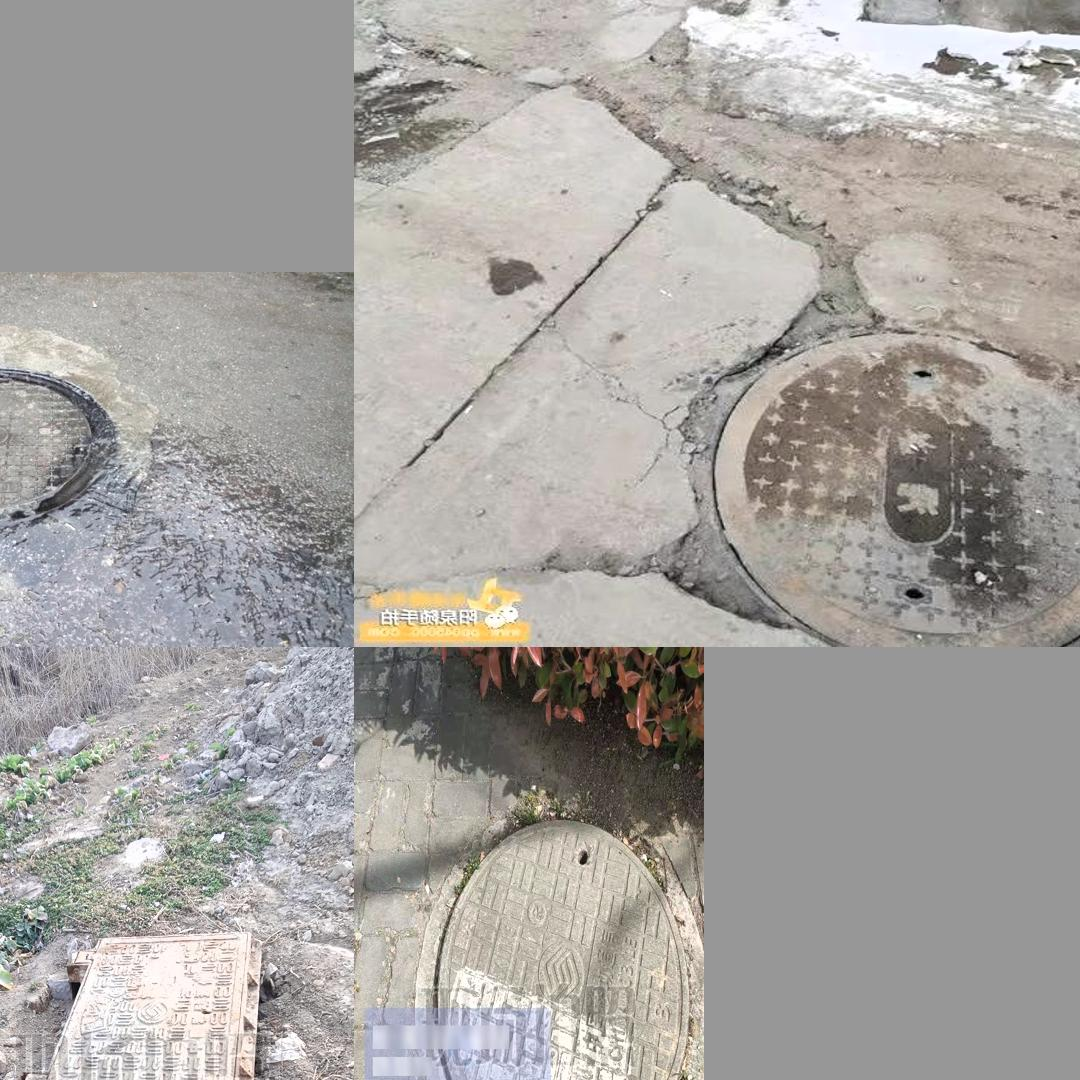circle: (577, 304, 1080, 639), (429, 800, 697, 1080), (11, 925, 270, 1080), (0, 343, 152, 563)
